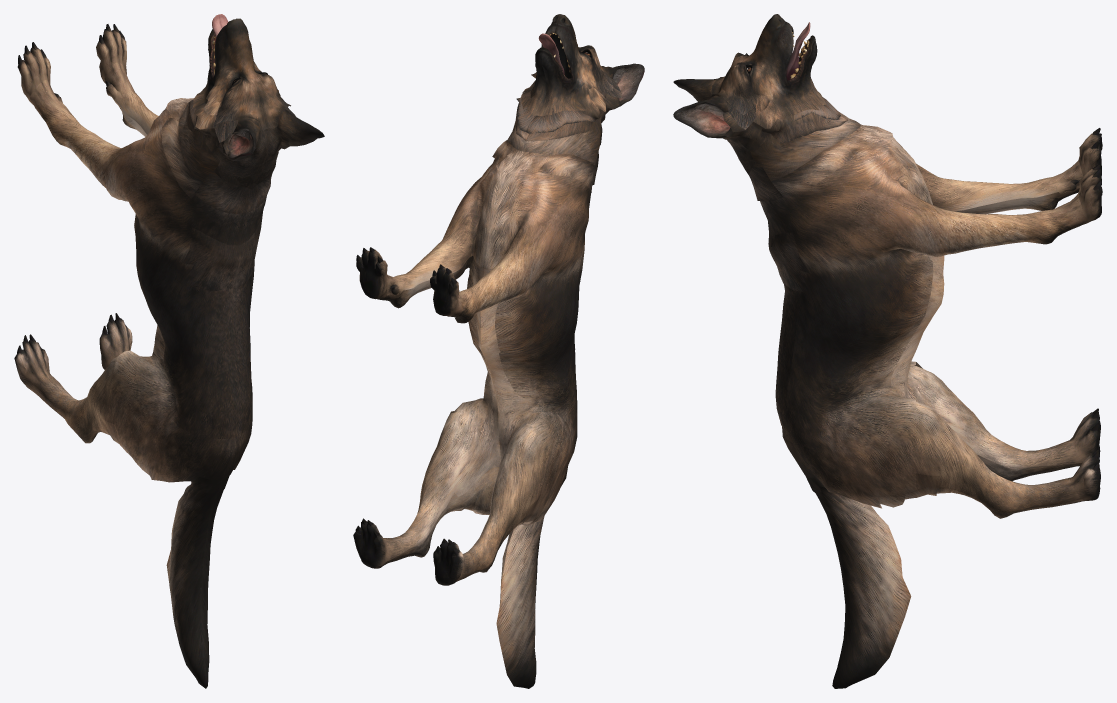
The picture shows the model from 3 angles, left to right: view 1: azimuth 30°, elevation 25°; view 2: azimuth 150°, elevation 25°; view 3: azimuth 270°, elevation 25°; orthographic projection. The views are drawn at different scales.
Parts seen in each view (by area): view 1: Dogmeat_body_Final_2, Dogmeat_body_Final_3, Dogmeat_body_Final_0, Dogmeat_body_Final_1; view 2: Dogmeat_body_Final_2, Dogmeat_body_Final_3, Dogmeat_body_Final_0, Dogmeat_body_Final_1; view 3: Dogmeat_body_Final_2, Dogmeat_body_Final_3, Dogmeat_body_Final_0, Dogmeat_body_Final_1.
Part boxes in pixels (left/top/right/bottom): Dogmeat_body_Final_2: left=14, top=24, right=266, bottom=688; Dogmeat_body_Final_3: left=92, top=98, right=272, bottom=678; Dogmeat_body_Final_0: left=204, top=14, right=324, bottom=170; Dogmeat_body_Final_1: left=186, top=72, right=295, bottom=189; Dogmeat_body_Final_2: left=353, top=142, right=595, bottom=688; Dogmeat_body_Final_3: left=429, top=120, right=601, bottom=687; Dogmeat_body_Final_0: left=530, top=14, right=644, bottom=128; Dogmeat_body_Final_1: left=516, top=45, right=626, bottom=145; Dogmeat_body_Final_2: left=753, top=124, right=1102, bottom=688; Dogmeat_body_Final_3: left=744, top=117, right=959, bottom=684; Dogmeat_body_Final_0: left=673, top=14, right=817, bottom=155; Dogmeat_body_Final_1: left=695, top=52, right=848, bottom=174.
Size of what is drawn, in the model's own units: 242 by 1386 by 800.
